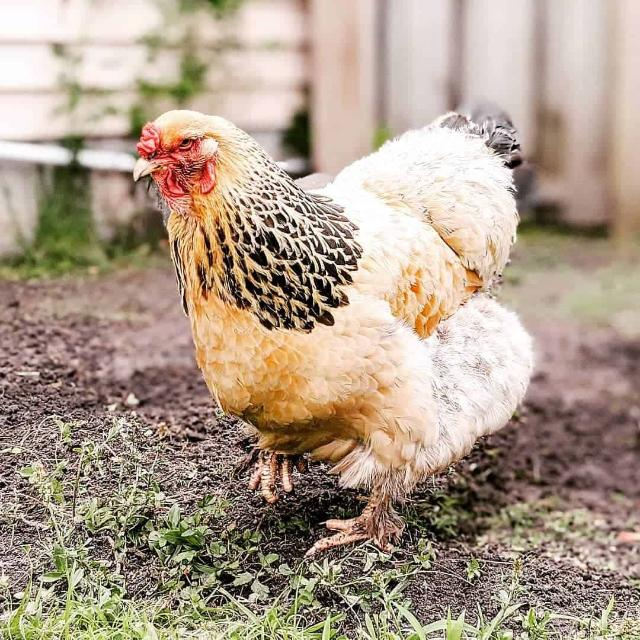Chicken: (135, 110, 537, 556)
